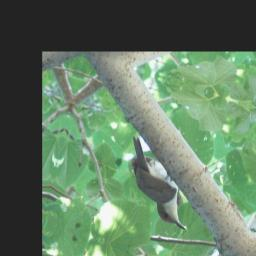Cuckoo: (114, 134, 205, 232)
